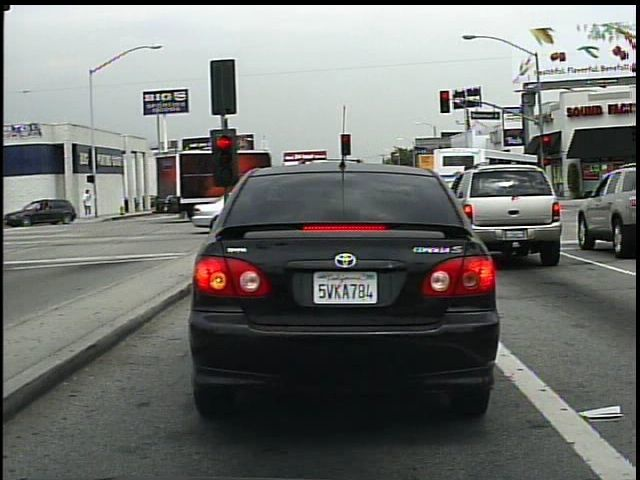person: (81, 188, 95, 218)
